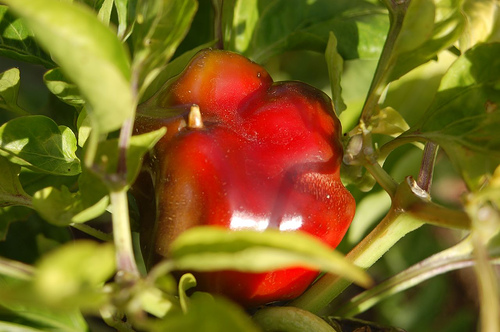capsicum: (153, 45, 360, 314)
